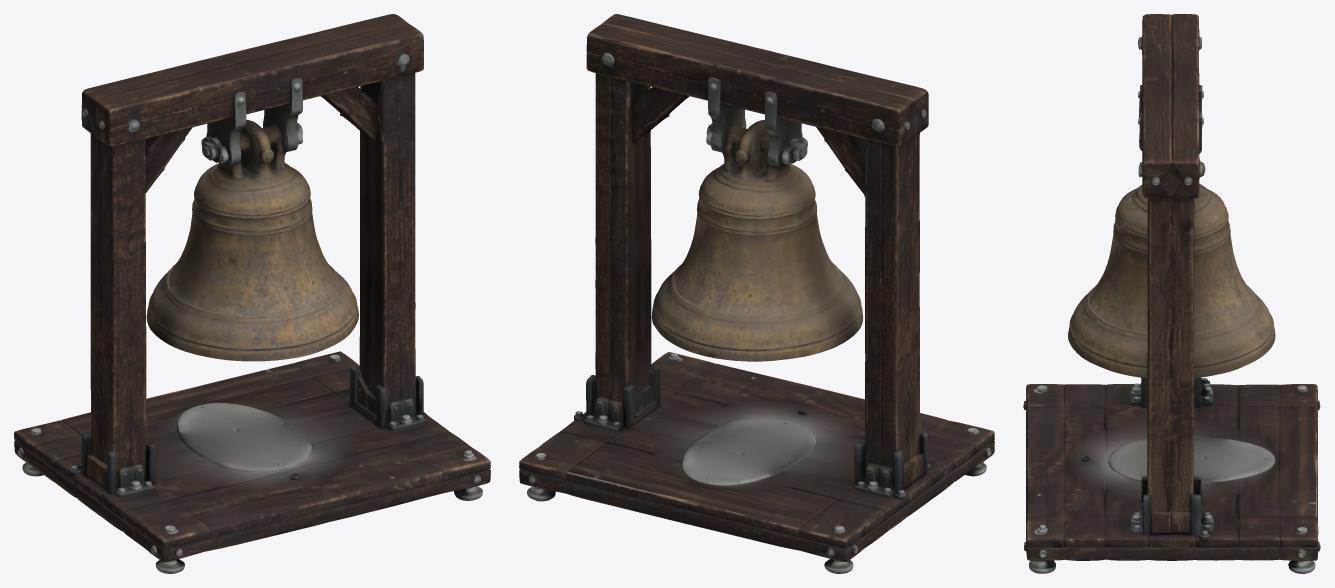
The model's file is bells.glb.
The picture shows the model from 3 angles, left to right: view 1: azimuth 30°, elevation 25°; view 2: azimuth 150°, elevation 25°; view 3: azimuth 270°, elevation 25°; orthographic projection. The views are drawn at different scales.
Visible parts, largest first — view 1: Hi3D bells · retained original shell; view 2: Hi3D bells · retained original shell; view 3: Hi3D bells · retained original shell.
Boxes of the visible parts, <box> form: Hi3D bells · retained original shell: <box>14,14,490,573</box>; Hi3D bells · retained original shell: <box>519,14,994,573</box>; Hi3D bells · retained original shell: <box>1023,14,1320,573</box>.
Size of the model in its own units: 2.05 by 2.5 by 1.63.
3 materials, 1 textured.
